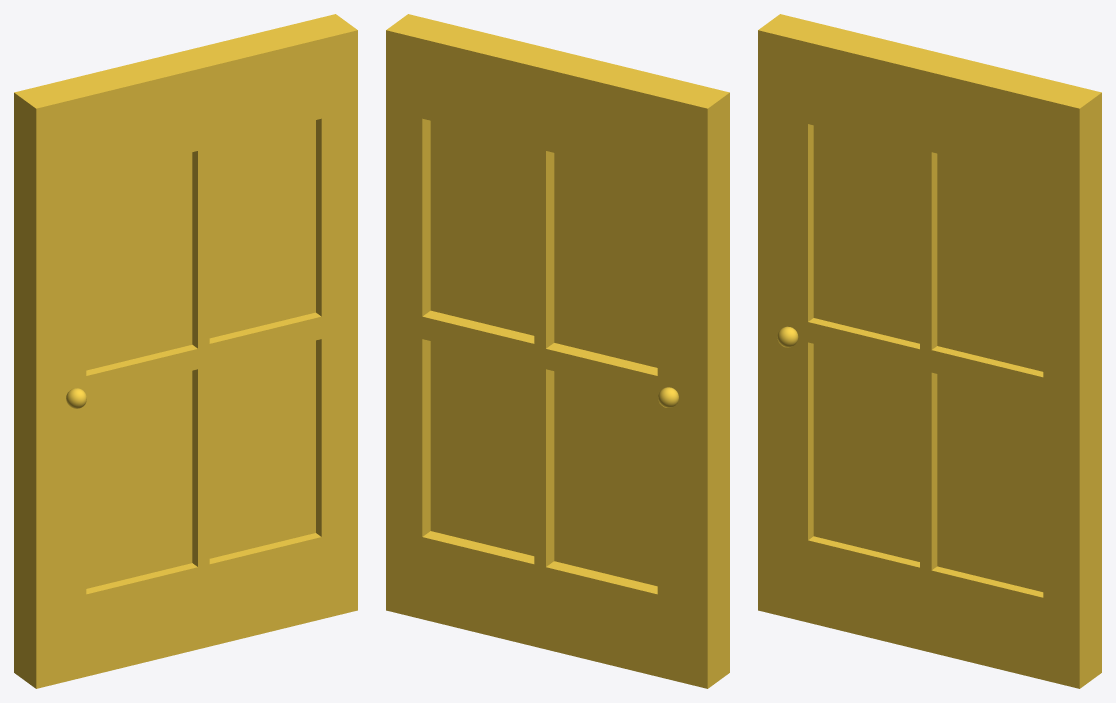
The model's file is PUERTA.obj.
3 renders of one model, left to right at view 1: azimuth 30°, elevation 25°; view 2: azimuth 150°, elevation 25°; view 3: azimuth 330°, elevation 25°, orthographic.
Visible parts, largest first — view 1: Union1; view 2: Union1; view 3: Union1.
Part boxes in pixels (x1,y1,x2,y2): Union1: (14, 14, 357, 688); Union1: (386, 14, 729, 688); Union1: (758, 14, 1101, 688).
Size of the model in its own units: 4.95 by 8.53 by 1.12.
